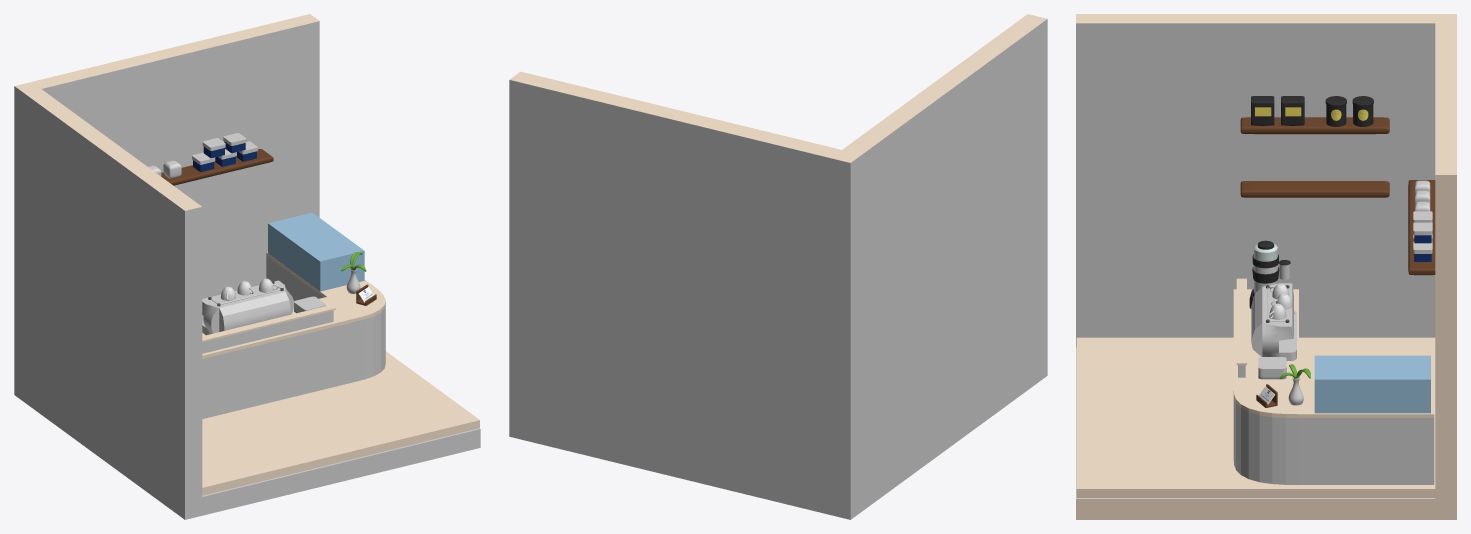
File: lecouernew.glb
3 views of the same model, side by side, from view 1: azimuth 30°, elevation 25°; view 2: azimuth 150°, elevation 25°; view 3: azimuth 270°, elevation 25° (orthographic). The views are drawn at different scales.
Visible parts, largest first — view 1: wall, counter_floor, counter, cake_window, coffee_machine, shelf1; view 2: wall; view 3: wall, counter_floor, counter, cake_window, coffee_machine, shelf3, shelf2, shelf1, grinder_body, tea_box1, tea_box2, pos (+3 smaller).
Part boxes in pixels (bbox=[...]): wall: bbox=[14, 14, 480, 519]; counter_floor: bbox=[202, 351, 479, 495]; counter: bbox=[202, 252, 385, 418]; cake_window: bbox=[268, 212, 364, 291]; coffee_machine: bbox=[202, 280, 293, 335]; shelf1: bbox=[161, 149, 273, 185]; wall: bbox=[509, 14, 1047, 519]; wall: bbox=[1076, 14, 1456, 519]; counter_floor: bbox=[1076, 337, 1435, 497]; counter: bbox=[1233, 278, 1434, 484]; cake_window: bbox=[1314, 355, 1430, 413]; coffee_machine: bbox=[1251, 283, 1296, 360]; shelf3: bbox=[1240, 181, 1389, 197]; shelf2: bbox=[1240, 117, 1389, 134]; shelf1: bbox=[1408, 180, 1435, 275]; grinder_body: bbox=[1249, 240, 1290, 308]; tea_box1: bbox=[1251, 96, 1274, 125]; tea_box2: bbox=[1281, 96, 1304, 125]; pos: bbox=[1258, 357, 1286, 379].
Bounding box in the file's own units: 6 × 6 × 6.
18 materials, 1 textured.
